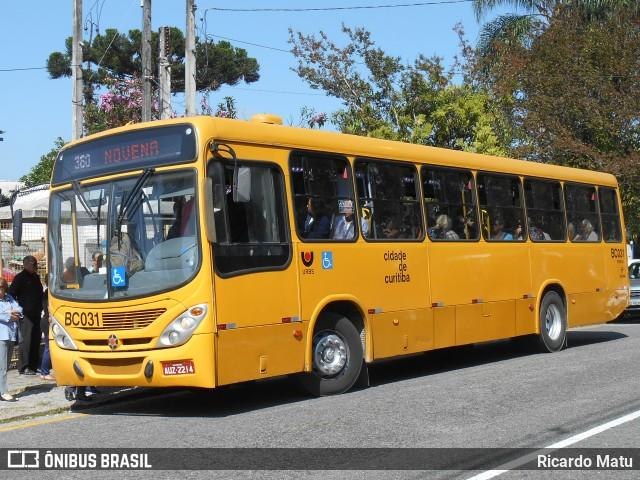NOVENA: (100, 137, 161, 167)
